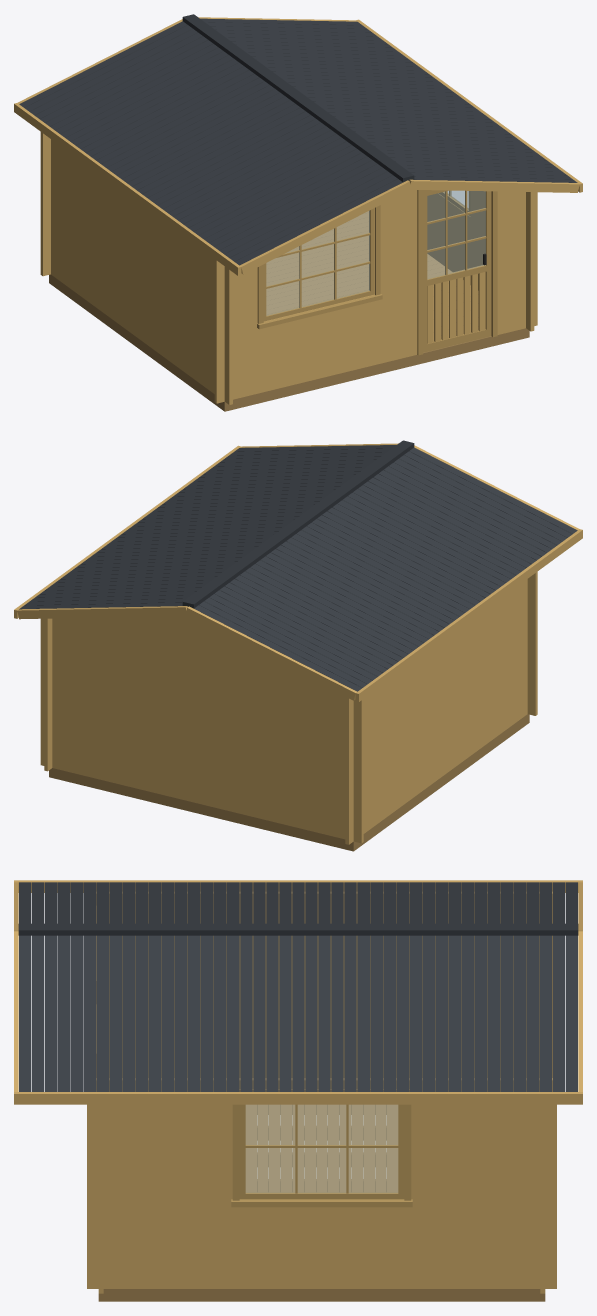
Rendered from диогу_4_4_44_мм.glb.
The picture shows the model from 3 angles, top to bottom: view 1: azimuth 30°, elevation 25°; view 2: azimuth 150°, elevation 25°; view 3: azimuth 270°, elevation 25°; orthographic projection. The views are drawn at different scales.
Visible parts, largest first — view 1: roof, walls, floor, object 6, house, object 28, object 34, object 16, object 14, object 35, object 15, object 5 (+2 smaller); view 2: roof, walls, house; view 3: roof, walls, floor, object 41, house, object 48, object 40, object 46, object 45, object 37, object 38.
Part boxes in pixels (<box>): roof: <box>14,14,582,275</box>; walls: <box>40,132,537,404</box>; floor: <box>266,211,478,340</box>; object 6: <box>266,210,369,315</box>; house: <box>49,274,529,411</box>; object 28: <box>427,191,485,278</box>; object 34: <box>417,190,422,355</box>; object 16: <box>485,191,491,336</box>; object 14: <box>257,294,382,329</box>; object 35: <box>492,191,497,337</box>; object 15: <box>423,190,427,352</box>; object 5: <box>263,290,374,321</box>; roof: <box>14,440,582,702</box>; walls: <box>40,571,537,844</box>; house: <box>49,714,529,851</box>; roof: <box>14,880,582,1104</box>; walls: <box>87,891,556,1293</box>; floor: <box>245,1104,398,1192</box>; object 41: <box>246,1105,397,1192</box>; house: <box>98,1105,545,1301</box>; object 48: <box>231,1199,412,1207</box>; object 40: <box>240,1192,403,1199</box>; object 46: <box>404,1089,411,1200</box>; object 45: <box>232,1104,239,1200</box>; object 37: <box>239,1104,245,1199</box>; object 38: <box>398,1104,404,1199</box>.
Size of the model in its own units: 4.3 by 2.63 by 4.84.
